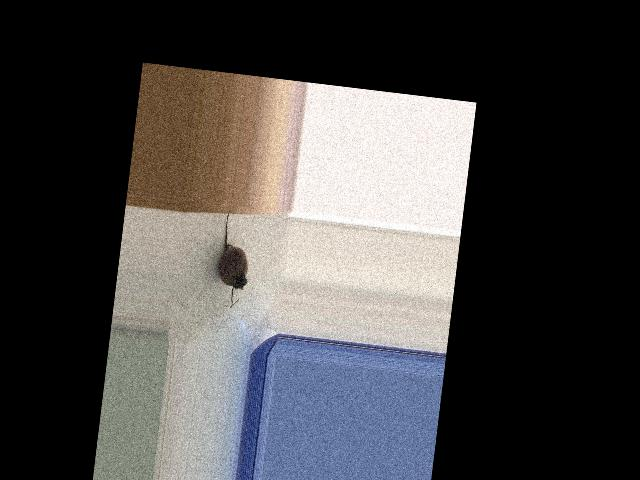beet: (213, 209, 254, 309)
